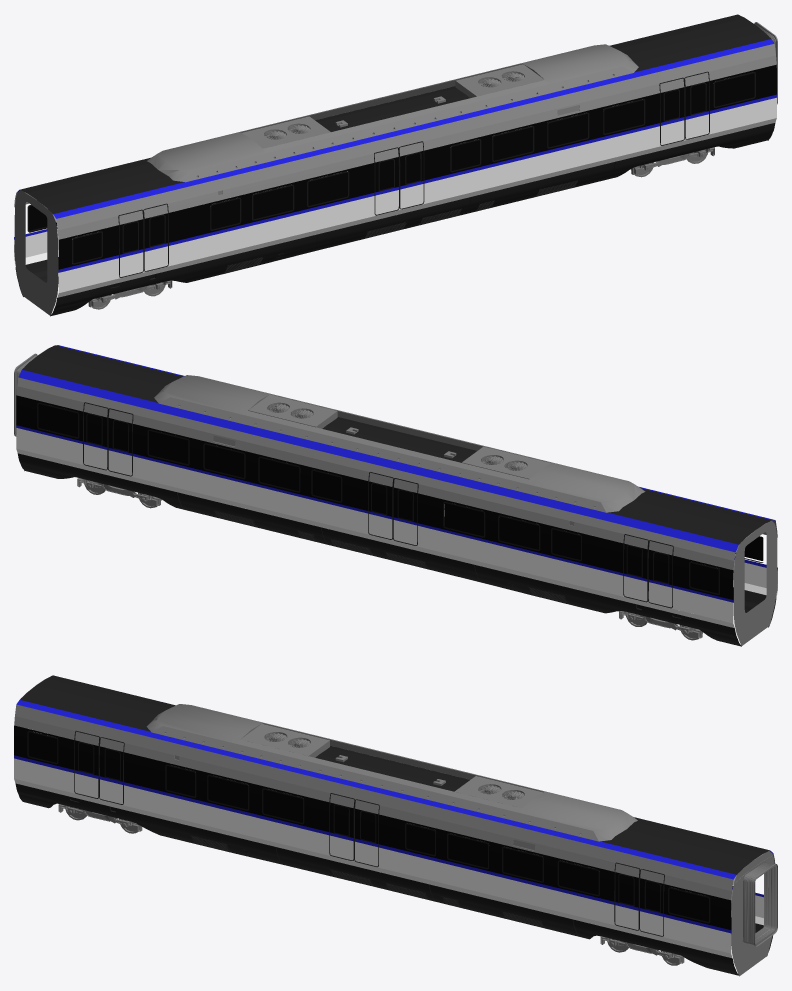
The model's file is 城际列车车厢.fbx.
3 renders of one model, top to bottom at view 1: azimuth 30°, elevation 25°; view 2: azimuth 150°, elevation 25°; view 3: azimuth 330°, elevation 25°, orthographic.
Parts seen in each view (by area): view 1: 城际列车厢_车体, 后构架, 前构架; view 2: 城际列车厢_车体, 后构架, 前构架; view 3: 城际列车厢_车体, 后构架, 前构架.
Boxes of the visible parts, <box> form: 城际列车厢_车体: <box>14,14,777,316</box>; 后构架: <box>631,147,714,174</box>; 前构架: <box>58,276,172,307</box>; 城际列车厢_车体: <box>14,345,777,646</box>; 后构架: <box>77,478,160,505</box>; 前构架: <box>619,611,702,638</box>; 城际列车厢_车体: <box>14,675,777,976</box>; 后构架: <box>600,936,684,963</box>; 前构架: <box>58,804,142,831</box>.
Size of the model in its own units: 3000 by 479 by 321.
